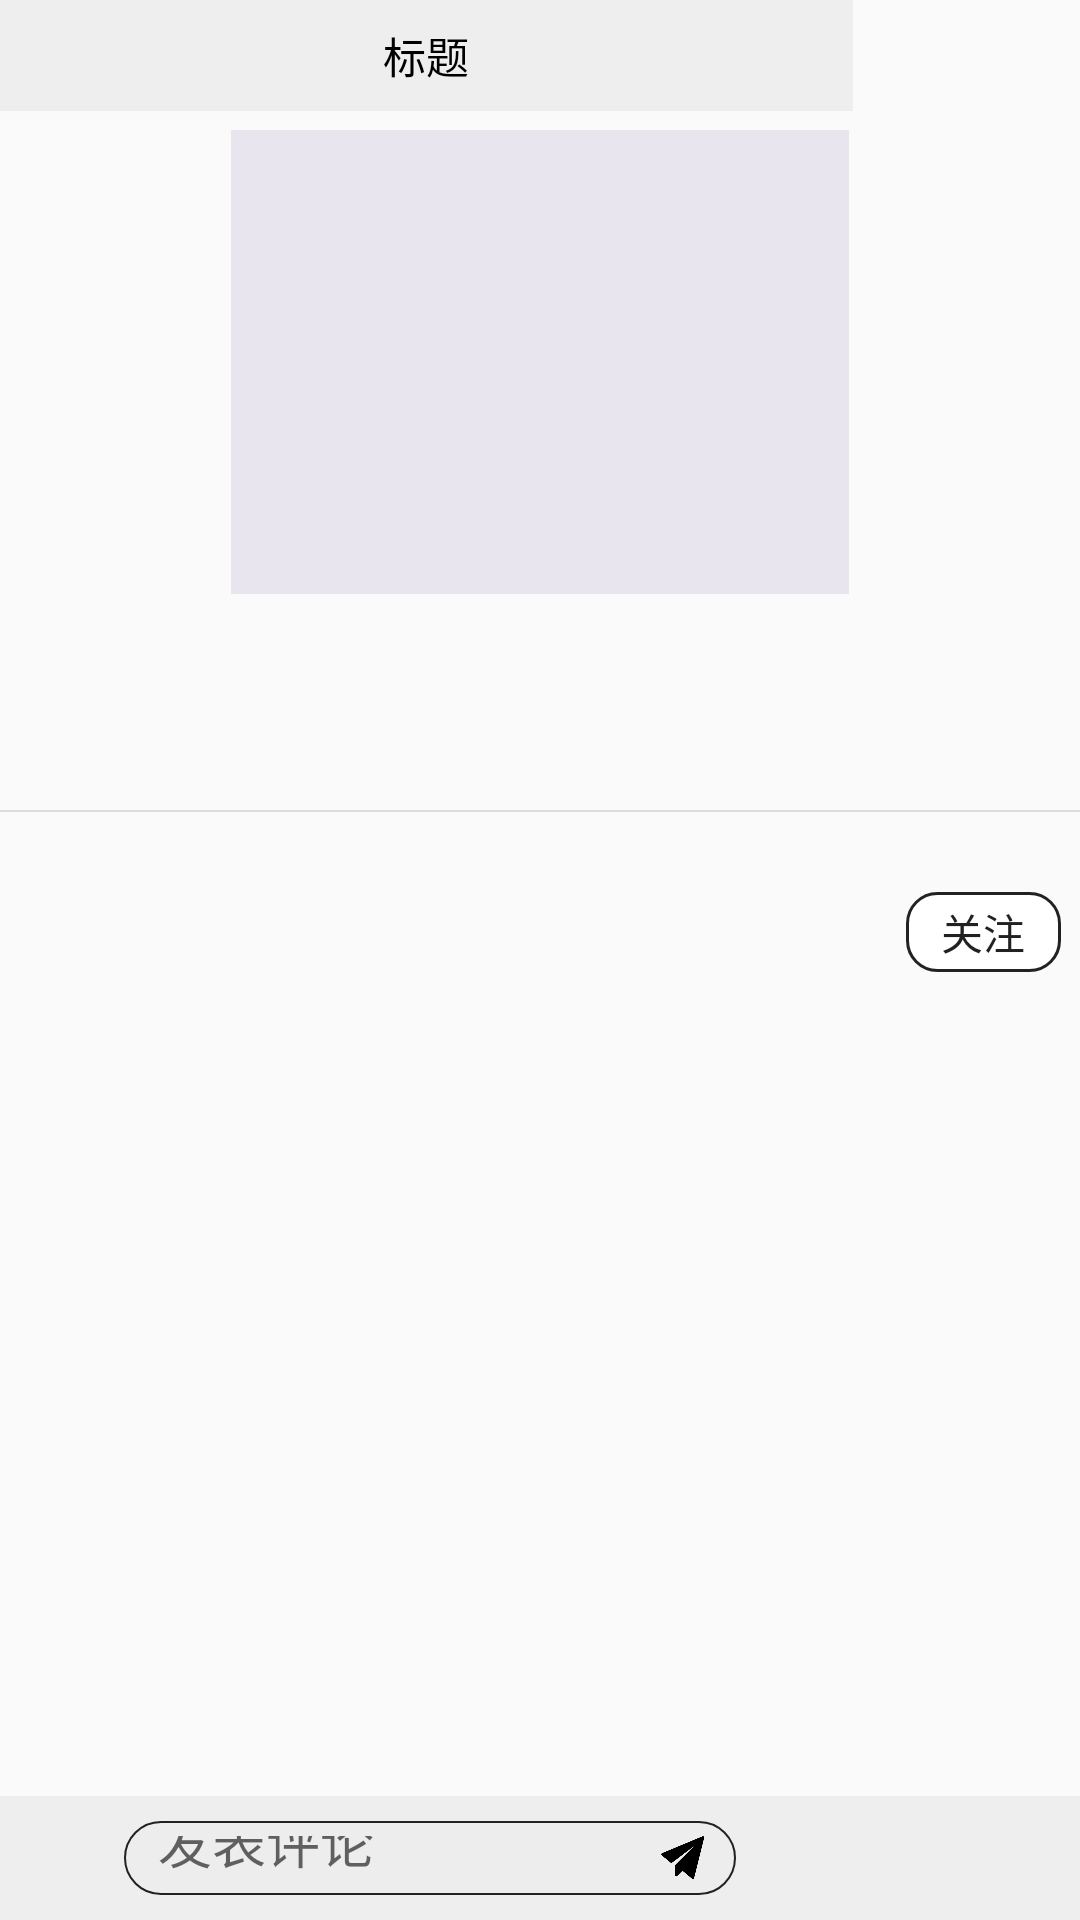

Screen size 1080*1920. Icon name, then its box in pixels as (x1, y1, x2, y2):
send: (661, 1836, 704, 1879)
